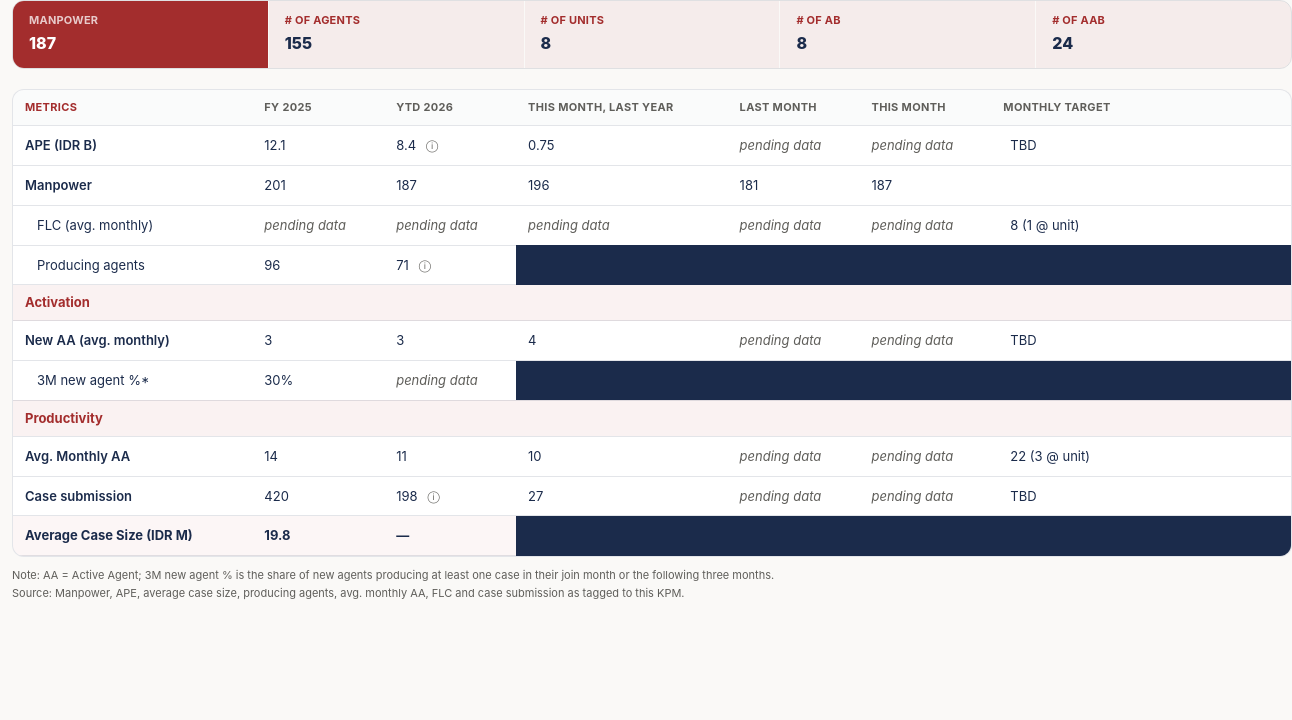
P18.1-T2 AC-7 saving a target › a 409: the meeting is read again, the cell shows what the other leader saved, and one line says so
Replace the text in the field named "Monthly Target, APE (IDR B)" with "1.2": coordinates (1141, 145) [1003, 133, 1279, 158]
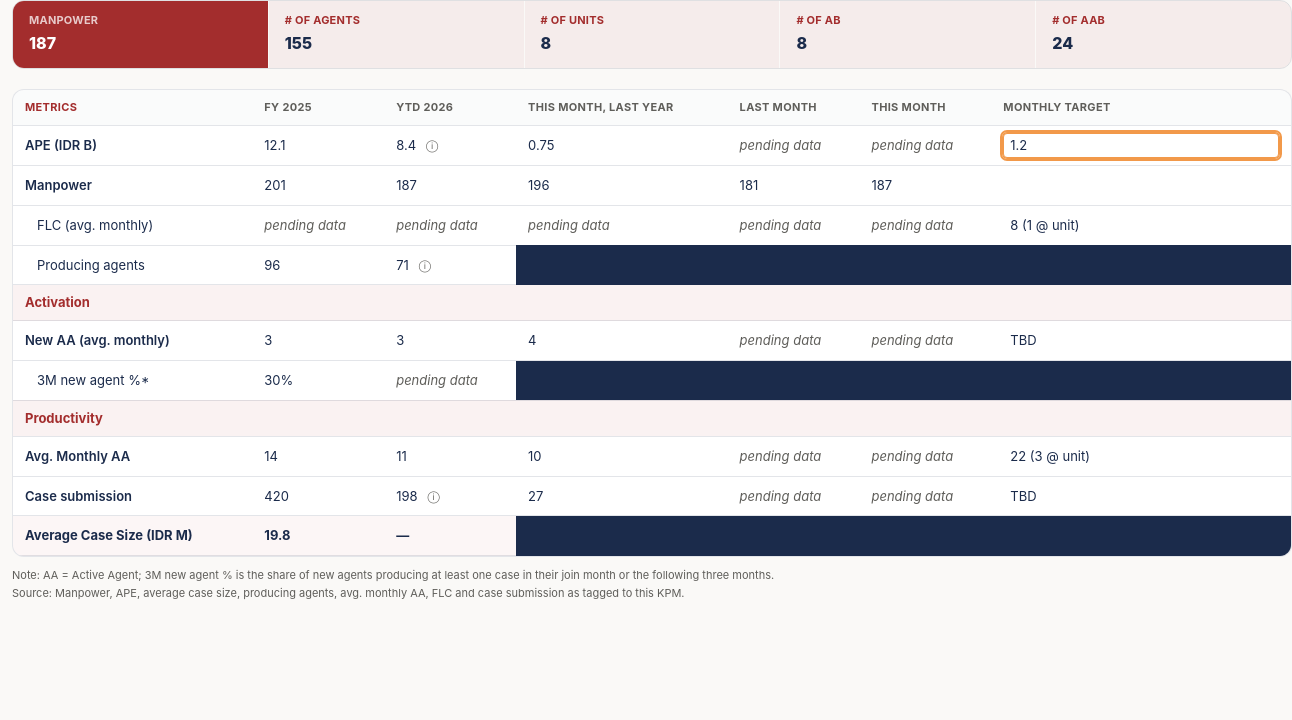
Press Tab
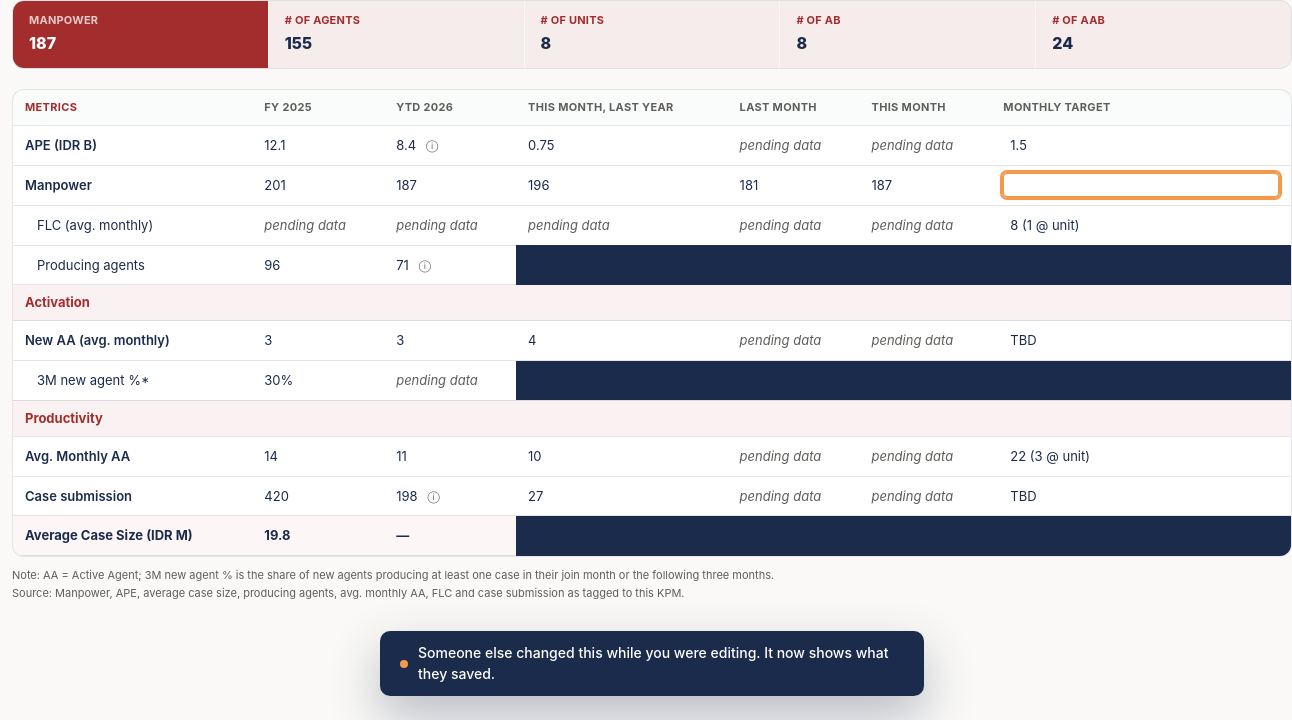
Now the text "Someone else changed this while you were editing. It now shows what they saved." is shown, box [380, 631, 924, 696]
Now the field named "Monthly Target, APE (IDR B)" holds "1.5", box [1003, 133, 1279, 158]
